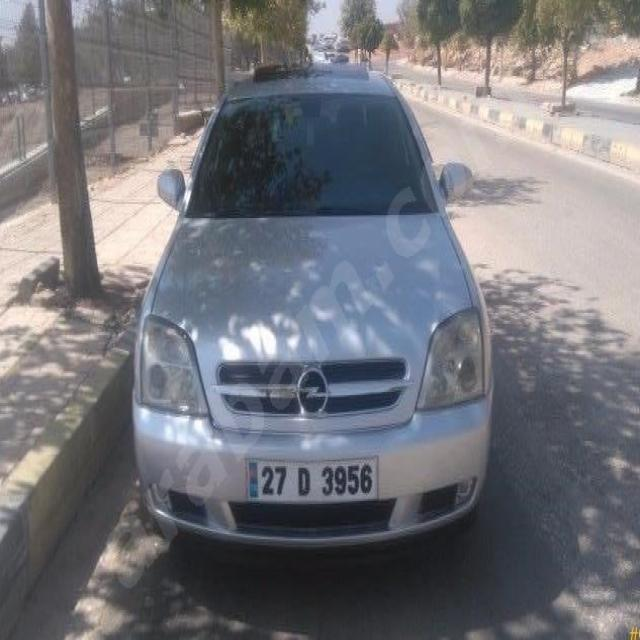license_plate: (247, 459, 379, 502)
